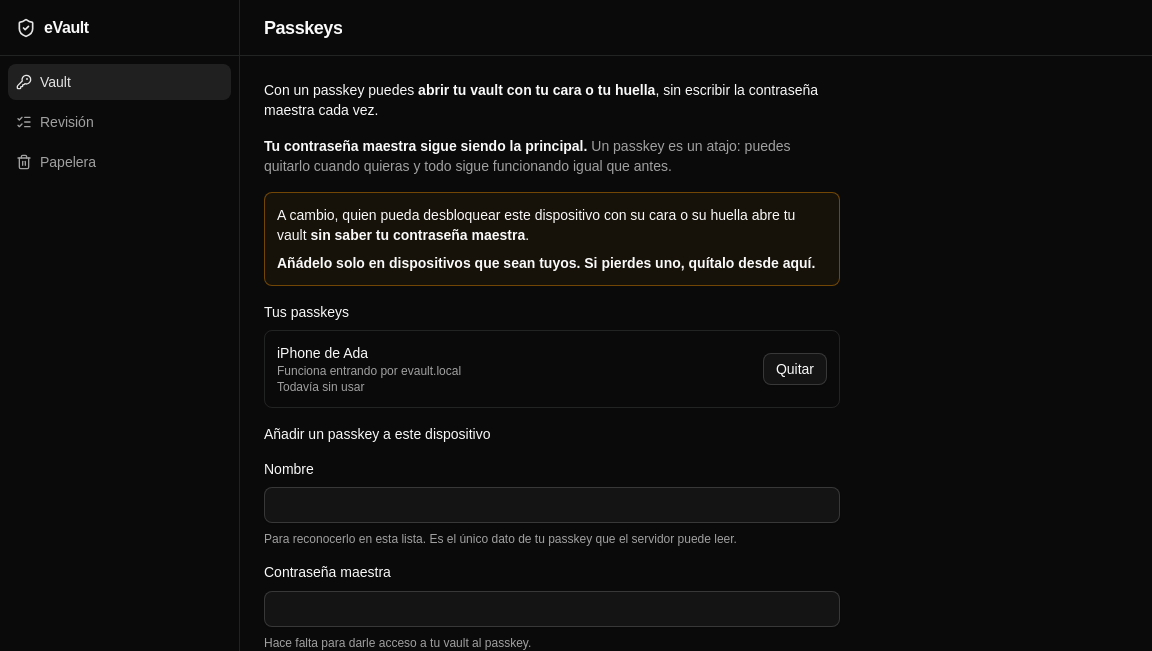
Scenario: revoking › says what stops working and what still does
Click the button "Quitar" at (795, 369), box top-left (763, 353), bottom-right (827, 385)
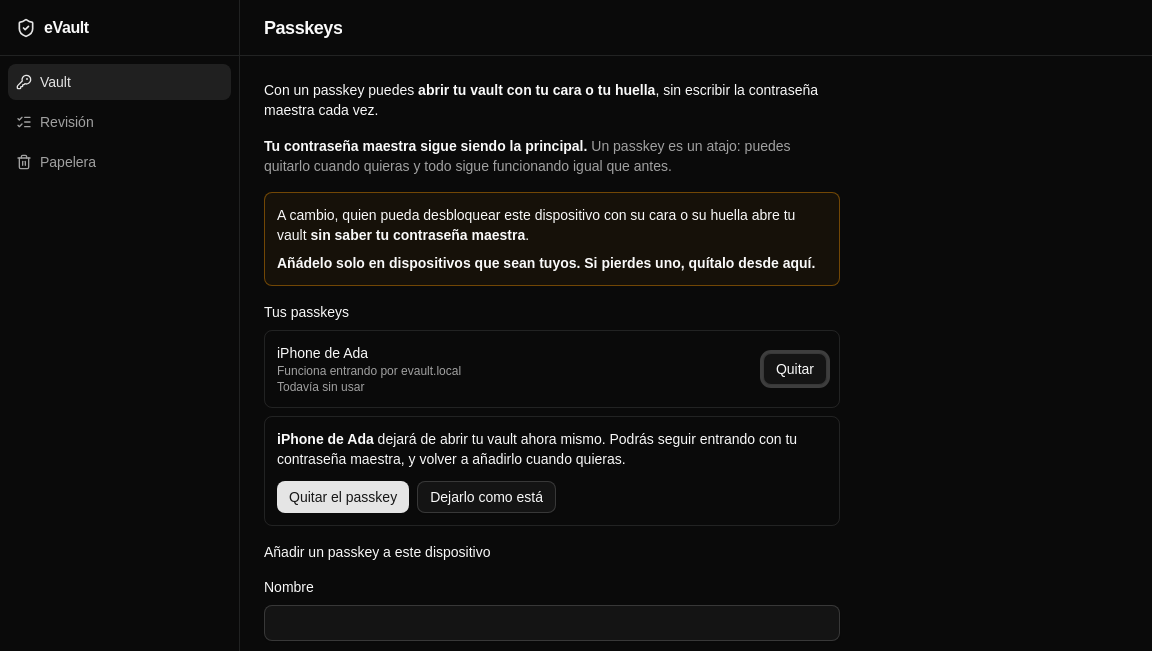
Expected: the dialog shows "dejará de abrir tu vault ahora mismo", top-left (277, 431), bottom-right (797, 467)
Expected: the dialog shows "seguir entrando con tu contraseña maestra", top-left (277, 431), bottom-right (797, 467)
